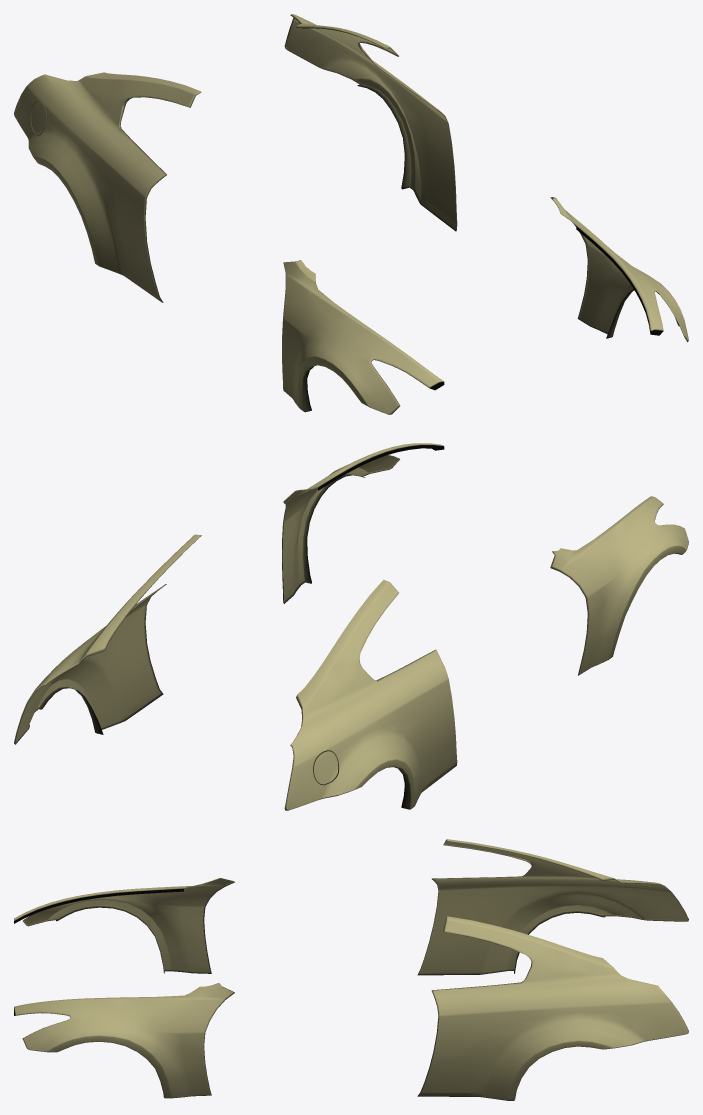
Rendered from G37_Fender_03_Duco.fbx.
The picture shows the model from 3 angles, top to bottom: view 1: azimuth 30°, elevation 25°; view 2: azimuth 150°, elevation 25°; view 3: azimuth 270°, elevation 25°; orthographic projection. The views are drawn at different scales.
Parts seen in each view (by area): view 1: G37_Fender_03_Duco; view 2: G37_Fender_03_Duco; view 3: G37_Fender_03_Duco.
Boxes of the visible parts, x1=… form: G37_Fender_03_Duco: x1=14, y1=14, x2=688, y2=414; G37_Fender_03_Duco: x1=14, y1=443, x2=688, y2=810; G37_Fender_03_Duco: x1=14, y1=839, x2=688, y2=1100.
Bounding box in the file's own units: 192 × 103 × 401.
